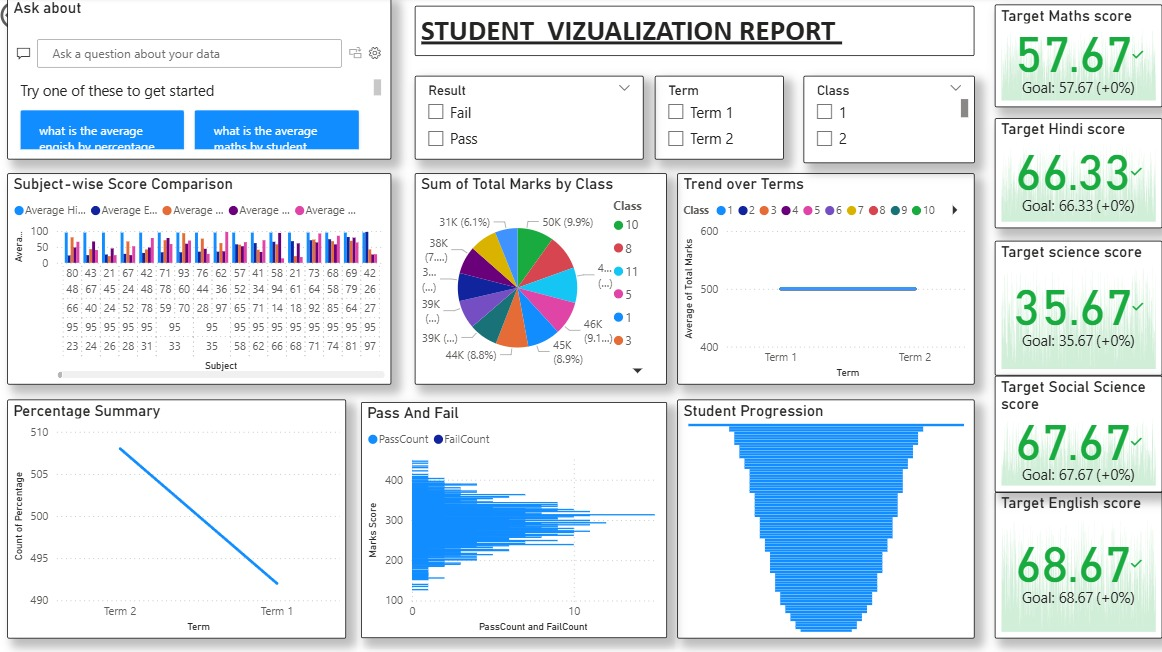

The page's visual inventory and layout, read from the dashboard file:
{"tool":"powerbi","page":{"name":"Page 1","canvas":[1280,720],"ordinal":0},"visuals":[{"type":"kpi","title":"Target Maths score ","fields":{"TrendLine":["MOCK_DATA (7).Student ID"],"Goal":["MOCK_DATA (7).Target Maths Score"],"Indicator":["MOCK_DATA (7).Average Maths"]},"box":[1096.4,8.2,183.9,112.5],"z":0},{"type":"kpi","title":"Target English score ","fields":{"Indicator":["MOCK_DATA (7).Average Engish"],"TrendLine":["MOCK_DATA (7).Student ID"],"Goal":["MOCK_DATA (7).Target English Score"]},"box":[1096.4,554.4,183.9,149.6],"z":1000},{"type":"kpi","title":"Target Hindi score ","fields":{"TrendLine":["MOCK_DATA (7).Student ID"],"Indicator":["MOCK_DATA (7).Average Hindi"],"Goal":["MOCK_DATA (7).Target Hindi Score"]},"box":[1096.4,133.1,183.9,120.8],"z":2000},{"type":"kpi","title":"Target science score ","fields":{"Indicator":["MOCK_DATA (7).Average Science"],"Goal":["MOCK_DATA (7).Target Science Score"],"TrendLine":["MOCK_DATA (7).Student ID"]},"box":[1096.4,267.6,183.9,148.2],"z":3000},{"type":"kpi","title":"Target Social Science score ","fields":{"Indicator":["MOCK_DATA (7).Average Social science"],"TrendLine":["MOCK_DATA (7).Student ID"],"Goal":["MOCK_DATA (7).Target Social science  Score"]},"box":[1096.4,415.8,183.9,127.6],"z":4000},{"type":"clusteredColumnChart","title":"Subject-wise Score Comparison","fields":{"Y":["MOCK_DATA (7).Average Hindi","MOCK_DATA (7).Average Engish","MOCK_DATA (7).Average Maths","MOCK_DATA (7).Average Social science","MOCK_DATA (7).Average Science"],"Category":["MOCK_DATA (7).English","MOCK_DATA (7).Hindi","MOCK_DATA (7).Science","MOCK_DATA (7).Social Science","MOCK_DATA (7).Maths"]},"box":[12.3,193.5,421.3,231.9],"z":5000},{"type":"lineChart","title":"Trend over Terms","fields":{"Category":["MOCK_DATA (7).Term"],"Y":["Avg(MOCK_DATA (7).Total Marks)"],"Series":["MOCK_DATA (7).Class"]},"box":[747.9,193.5,326.6,231.9],"z":6000},{"type":"pieChart","fields":{"Category":["MOCK_DATA (7).Class"],"Y":["Sum(MOCK_DATA (7).Total Marks)"]},"box":[459.7,193.5,277.2,231.9],"z":7000},{"type":"slicer","fields":{"Values":["MOCK_DATA (7).Class"]},"box":[886.5,86.4,188,96.1],"z":8000},{"type":"funnel","title":"Student Progression","fields":{"Y":["Sum(MOCK_DATA (7).Total Marks)"],"Category":["MOCK_DATA (7).English","MOCK_DATA (7).Hindi","MOCK_DATA (7).Maths","MOCK_DATA (7).Science","MOCK_DATA (7).Social Science"]},"box":[747.9,441.9,326.6,262.1],"z":9000},{"type":"lineChart","title":"Percentage Summary","fields":{"Category":["MOCK_DATA (7).Term"],"Y":["CountNonNull(MOCK_DATA (7).Percentage)"]},"box":[12.3,441.9,371.9,262.1],"z":10000},{"type":"barChart","title":"Pass And Fail","fields":{"Category":["MOCK_DATA (7).Marks Score"],"Y":["MOCK_DATA (7).PassCount","MOCK_DATA (7).FailCount"]},"box":[400.7,444.6,336.2,259.3],"z":11000},{"type":"slicer","fields":{"Values":["MOCK_DATA (7).Term"]},"box":[723.2,86.4,141.3,91.9],"z":12000},{"type":"actionButton","box":[0,0,100,40],"z":13000},{"type":"slicer","fields":{"Values":["MOCK_DATA (7).Result"]},"box":[459.7,86.4,251.1,91.9],"z":14000},{"type":"qnaVisual","title":"Ask about ","box":[12.3,0,421.3,178.4],"z":15000},{"type":"textbox","box":[459.7,9.6,614.8,54.9],"z":16000}]}

Visuals, with their boxes on the page's 1280x720 design canvas (x1, y1, x2, y2). These are canvas units, not pixel positions in the 1162x652 screenshot, which may show the page scaled, cropped or inside an application window:
"Target Maths score " kpi: rect(1096, 8, 1280, 121)
"Target English score " kpi: rect(1096, 554, 1280, 704)
"Target Hindi score " kpi: rect(1096, 133, 1280, 254)
"Target science score " kpi: rect(1096, 268, 1280, 416)
"Target Social Science score " kpi: rect(1096, 416, 1280, 543)
"Subject-wise Score Comparison" clusteredColumnChart: rect(12, 194, 434, 425)
"Trend over Terms" lineChart: rect(748, 194, 1074, 425)
pieChart - MOCK_DATA (7).Class x Sum(MOCK_DATA (7).Total Marks): rect(460, 194, 737, 425)
slicer - MOCK_DATA (7).Class: rect(886, 86, 1074, 182)
"Student Progression" funnel: rect(748, 442, 1074, 704)
"Percentage Summary" lineChart: rect(12, 442, 384, 704)
"Pass And Fail" barChart: rect(401, 445, 737, 704)
slicer - MOCK_DATA (7).Term: rect(723, 86, 864, 178)
actionButton: rect(0, 0, 100, 40)
slicer - MOCK_DATA (7).Result: rect(460, 86, 711, 178)
"Ask about " qnaVisual: rect(12, 0, 434, 178)
textbox: rect(460, 10, 1074, 64)
